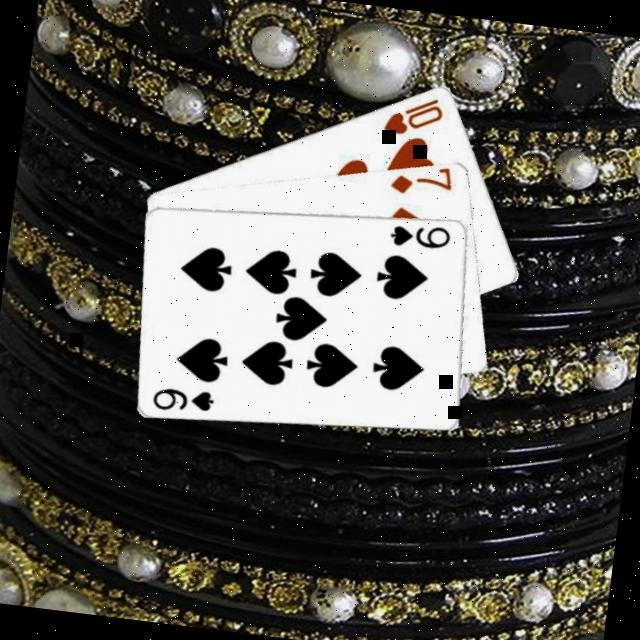10H: (378, 86, 446, 139)
7D: (384, 158, 455, 200)
9S: (384, 214, 454, 252), (147, 378, 216, 416)
